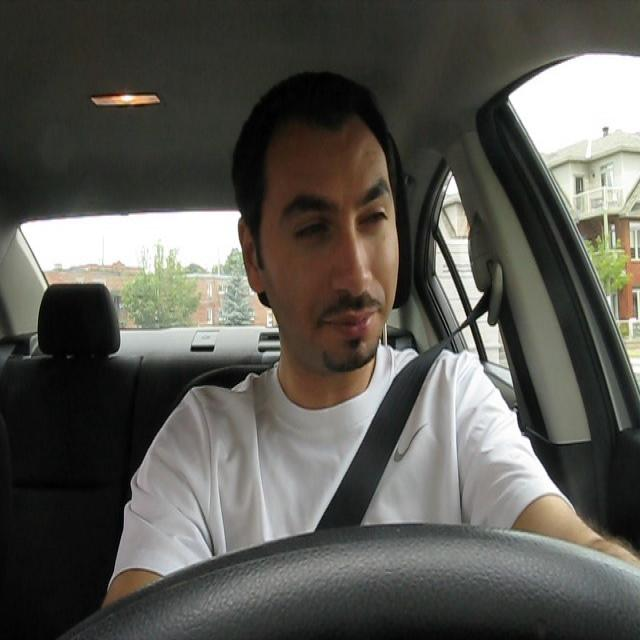Eyeclosed: (294, 212, 329, 244), (358, 201, 388, 235)
